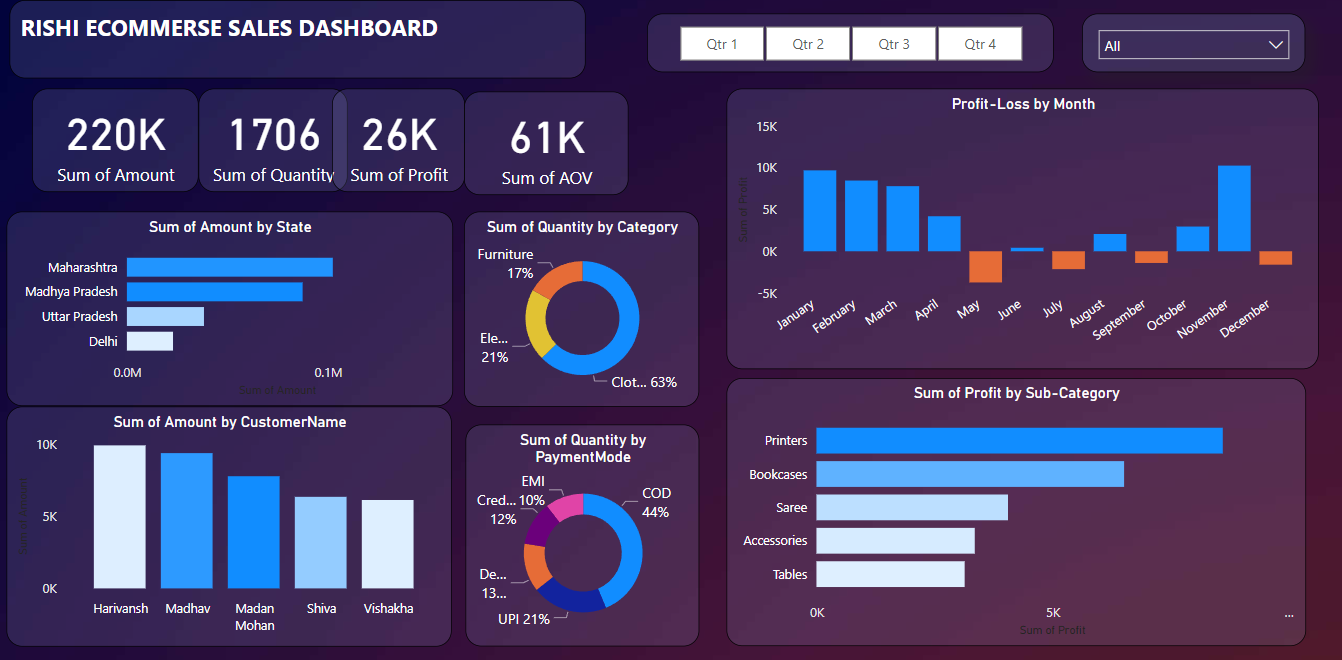

The page's visual inventory and layout, read from the dashboard file:
{"tool":"powerbi","page":{"name":"Page 1","canvas":[1280,720],"ordinal":0},"visuals":[{"type":"textbox","box":[9.7,0,548.5,74.4],"z":0},{"type":"columnChart","title":"Profit-Loss by Month","fields":{"Category":["Orders.Order Date.Variation.Date Hierarchy.Month"],"Y":["Details.Profit"]},"box":[692.9,84.3,564.3,267.1],"z":1000},{"type":"card","fields":{"Values":["Details.Amount"]},"box":[31.7,85,158.3,98.3],"z":2000},{"type":"donutChart","fields":{"Category":["Details.Category"],"Y":["Details.Quantity"]},"box":[442.9,201.4,224.3,185.7],"z":3000},{"type":"donutChart","fields":{"Y":["Details.Quantity"],"Category":["Details.PaymentMode"]},"box":[444.3,404.3,222.9,211.4],"z":4000},{"type":"card","fields":{"Values":["Details.Quantity"]},"box":[190,85,141.7,98.3],"z":5000},{"type":"card","fields":{"Values":["Details.Profit"]},"box":[316.7,85,126.7,98.3],"z":6000},{"type":"card","fields":{"Values":["Details.AOV"]},"box":[443.3,86.7,156.7,98.3],"z":7000},{"type":"barChart","fields":{"Y":["Details.Profit"],"Category":["Details.Sub-Category"]},"box":[693.3,360,551.7,255],"z":8000},{"type":"barChart","fields":{"Category":["Orders.State"],"Y":["Details.Amount"]},"box":[6.7,201.7,425,185],"z":9000},{"type":"columnChart","fields":{"Category":["Orders.CustomerName"],"Y":["Details.Amount"]},"box":[7.1,387.1,424.3,228.6],"z":10000},{"type":"slicer","fields":{"Values":["Orders.Order Date.Variation.Date Hierarchy.Quarter"]},"box":[617.1,12.9,387.1,55.7],"z":11000},{"type":"slicer","fields":{"Values":["Orders.City"]},"box":[1031.4,12.9,212.9,55.7],"z":12000}]}

Visuals, with their boxes on the page's 1280x720 design canvas (x1, y1, x2, y2). These are canvas units, not pixel positions in the 1342x660 screenshot, which may show the page scaled, cropped or inside an application window:
textbox: (10, 0, 558, 74)
"Profit-Loss by Month" columnChart: (693, 84, 1257, 351)
card - Details.Amount: (32, 85, 190, 183)
donutChart - Details.Category x Details.Quantity: (443, 201, 667, 387)
donutChart - Details.Quantity x Details.PaymentMode: (444, 404, 667, 616)
card - Details.Quantity: (190, 85, 332, 183)
card - Details.Profit: (317, 85, 443, 183)
card - Details.AOV: (443, 87, 600, 185)
barChart - Details.Profit x Details.Sub-Category: (693, 360, 1245, 615)
barChart - Orders.State x Details.Amount: (7, 202, 432, 387)
columnChart - Orders.CustomerName x Details.Amount: (7, 387, 431, 616)
slicer - Orders.Order Date.Variation.Date Hierarchy.Quarter: (617, 13, 1004, 69)
slicer - Orders.City: (1031, 13, 1244, 69)
